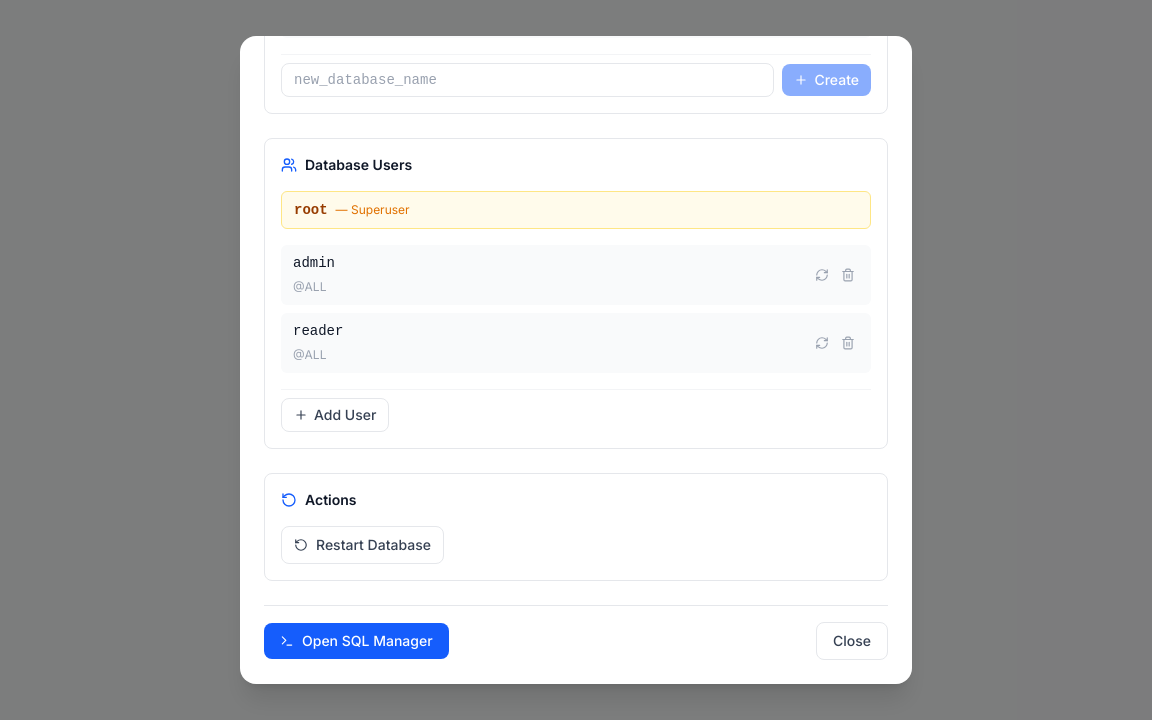
Scenario: DatabaseManagementModal › shows add user button and form
(page scrolled)
What coordinates should you click on to do the following:
click the button with test id "show-create-user-form"
I would click on:
 (335, 415)
Its box is [281,398,389,432].
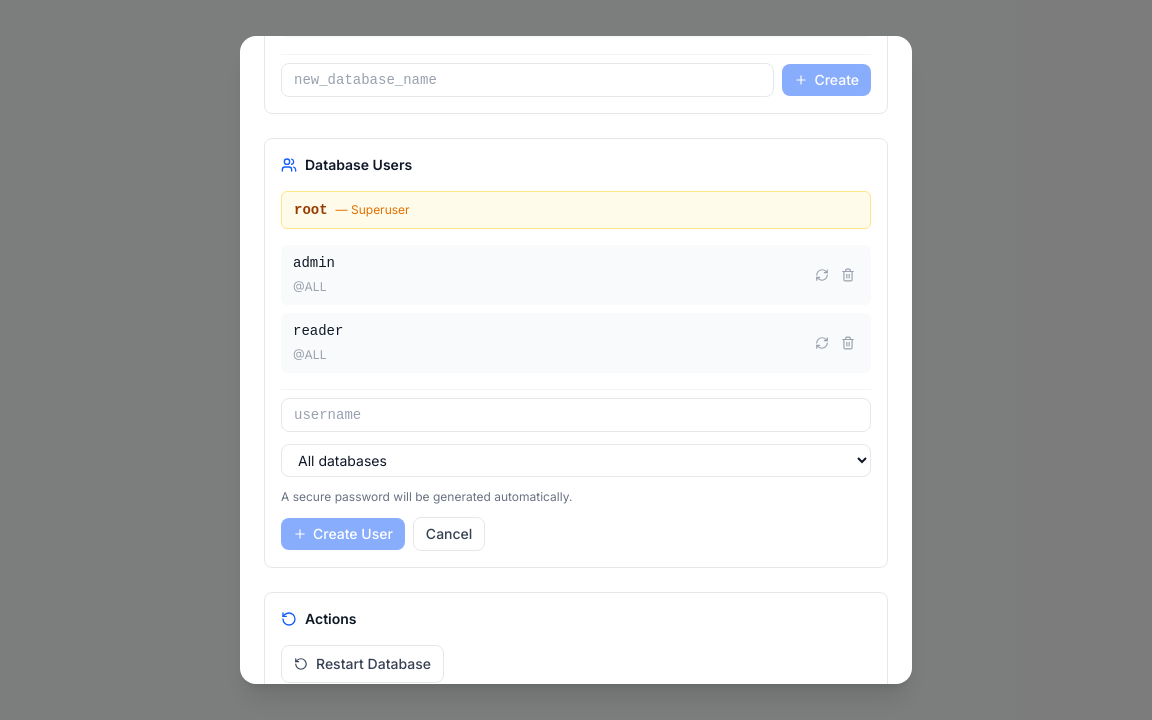
Check: the element with test id "create-user-form" is shown, box [281,398,871,551]
Check: the field with test id "create-user-username" is shown, box [281,398,871,432]
Check: the dropdown with test id "create-user-database" is shown, box [281,444,871,477]
